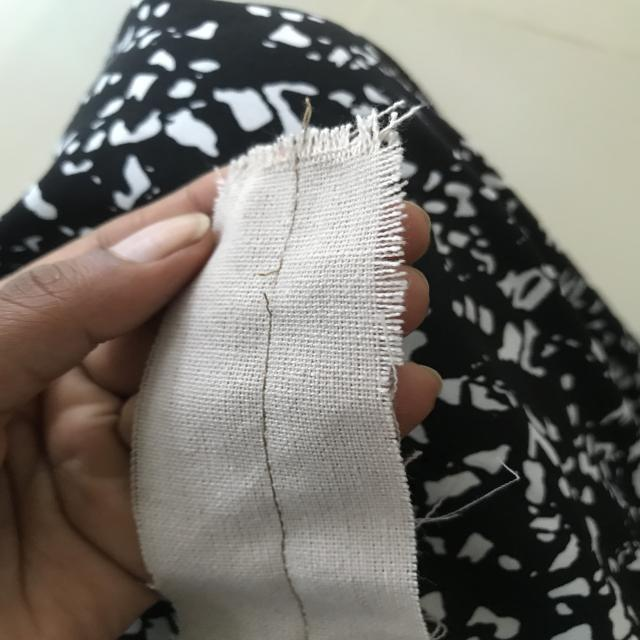broken: (246, 254, 291, 319)
